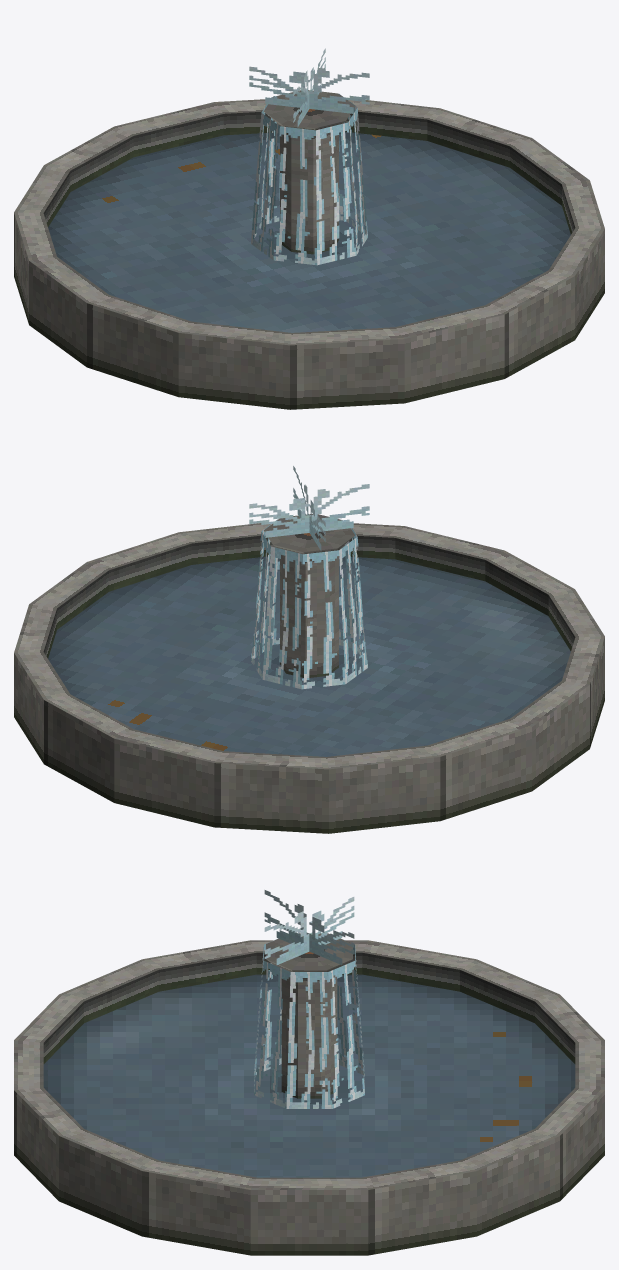
File: env_fountain_normal.glb
The picture shows the model from 3 angles, top to bottom: view 1: azimuth 30°, elevation 25°; view 2: azimuth 150°, elevation 25°; view 3: azimuth 270°, elevation 25°; orthographic projection.
Visible parts, largest first — view 1: env_fountain_normal; view 2: env_fountain_normal; view 3: env_fountain_normal.
Boxes of the visible parts, box(x1,y1,x2,y2) form: env_fountain_normal: box(14, 48, 604, 409); env_fountain_normal: box(14, 466, 604, 833); env_fountain_normal: box(14, 890, 604, 1255).
Bounding box in the file's own units: 0.00981 × 0.00455 × 0.00981.
2 materials, 2 textured.
